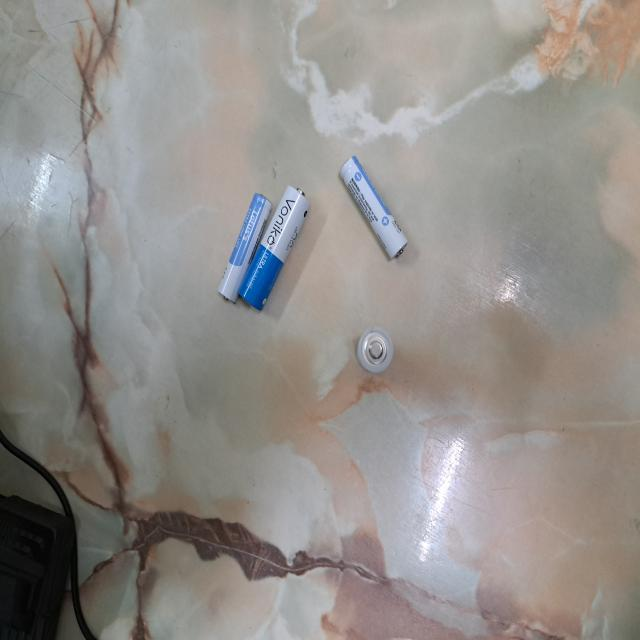battery: (236, 184, 312, 312), (339, 155, 408, 260), (220, 193, 274, 303), (356, 327, 394, 375)
